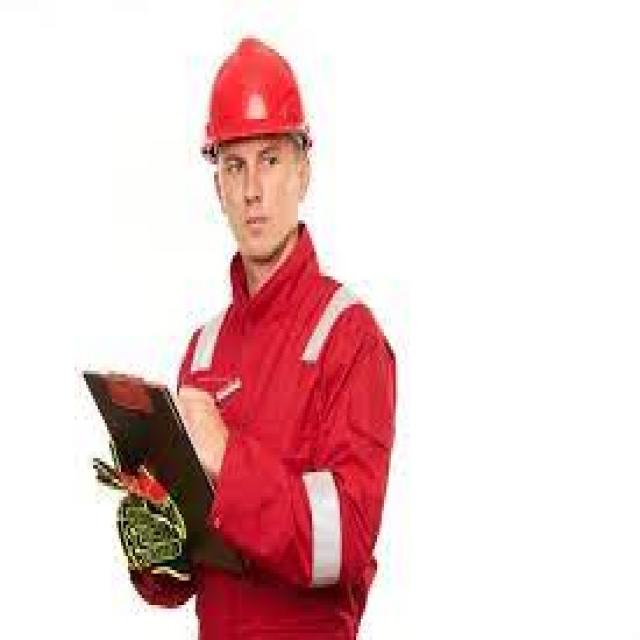Reflective-Jacket: (171, 279, 387, 639)
Safety-Helmet: (193, 35, 324, 171)
